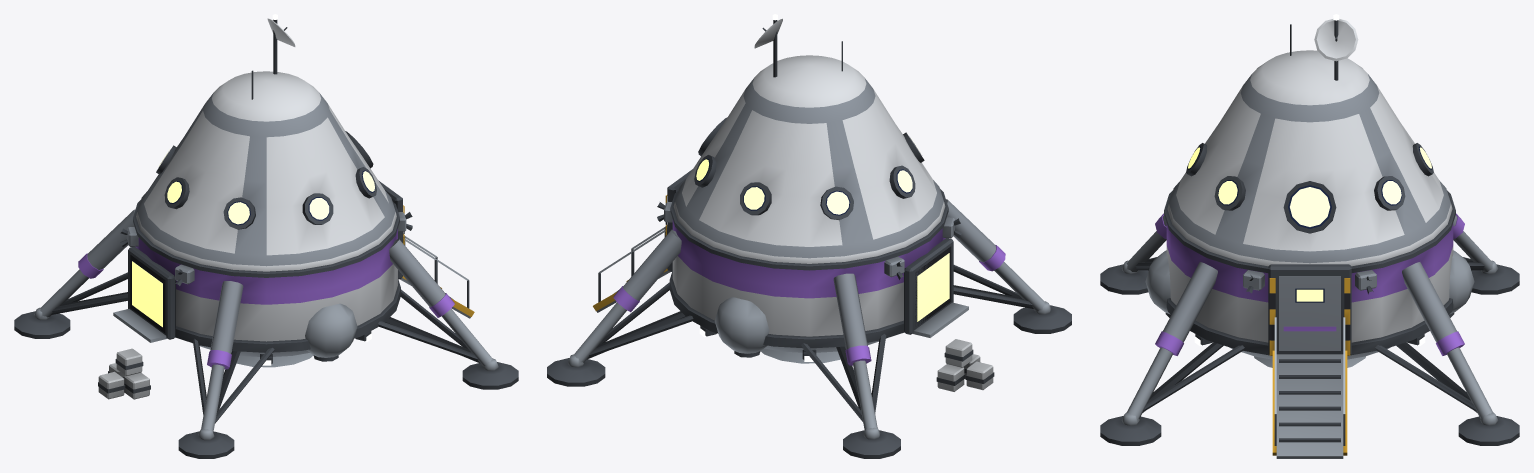
File: lander.glb
3 views of the same model, side by side, from view 1: azimuth 30°, elevation 25°; view 2: azimuth 150°, elevation 25°; view 3: azimuth 270°, elevation 25° (orthographic). The views are drawn at different scales.
Visible parts, largest first — view 1: Base, Lights; view 2: Base, Lights; view 3: Base, Lights.
Boxes of the visible parts, x1,y1,x2,y2 form: Base: (14, 18, 518, 458); Lights: (132, 14, 374, 365); Base: (547, 18, 1071, 458); Lights: (696, 14, 949, 361); Base: (1100, 19, 1519, 458); Lights: (1188, 14, 1431, 346).
Size of the model in its own units: 9.47 by 8.21 by 8.77.
